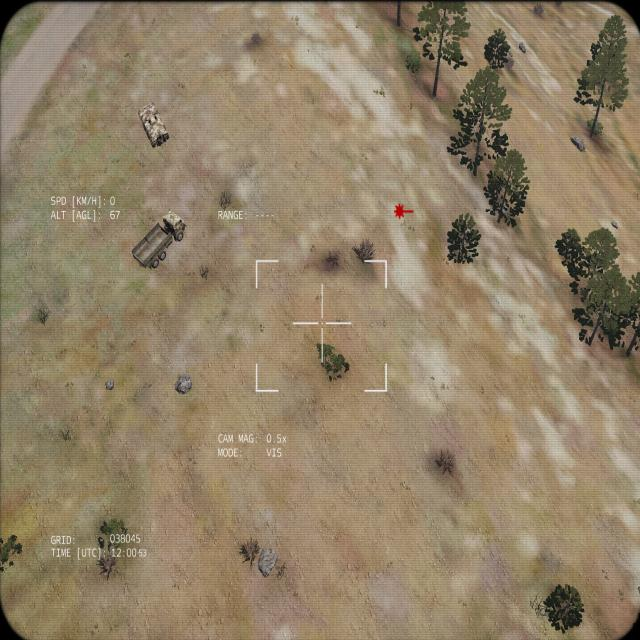apc: (138, 103, 170, 149)
truck: (130, 209, 186, 271)
